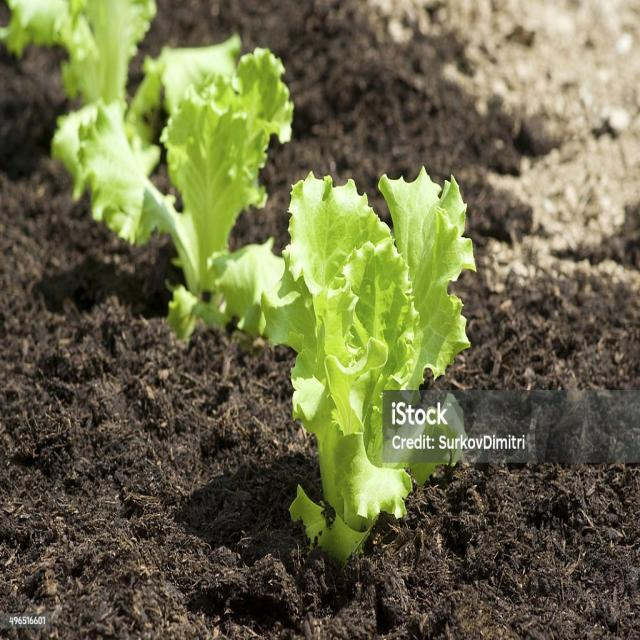Lettuce-Not-Ready-to-Harvest: (260, 168, 475, 550), (77, 53, 294, 333)
